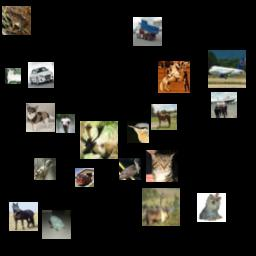airplane: (208, 50, 246, 88), (211, 92, 237, 118)
automobile: (28, 62, 54, 88)
bird: (127, 121, 149, 143), (34, 158, 56, 180), (119, 158, 141, 180), (56, 114, 75, 133)
cat: (146, 150, 178, 182), (5, 68, 21, 84)
deer: (142, 188, 180, 226), (80, 121, 118, 159)
dog: (197, 193, 226, 222), (26, 103, 55, 132)
frog: (2, 6, 31, 35), (42, 210, 71, 239)
truck: (133, 17, 162, 46), (75, 168, 94, 187)
